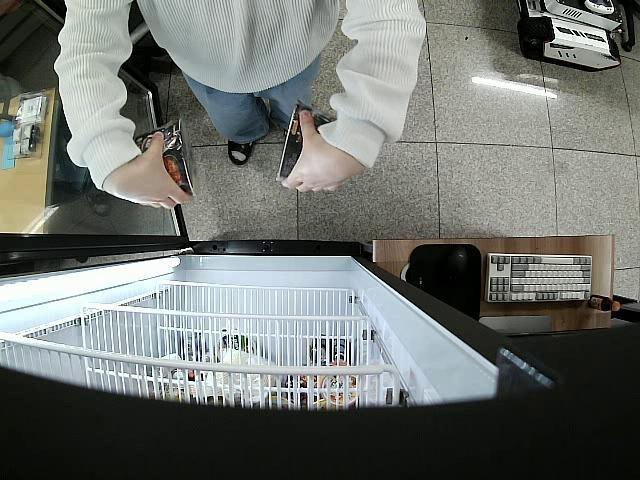07_buldak_L: (128, 116, 197, 198), (276, 100, 339, 186)
